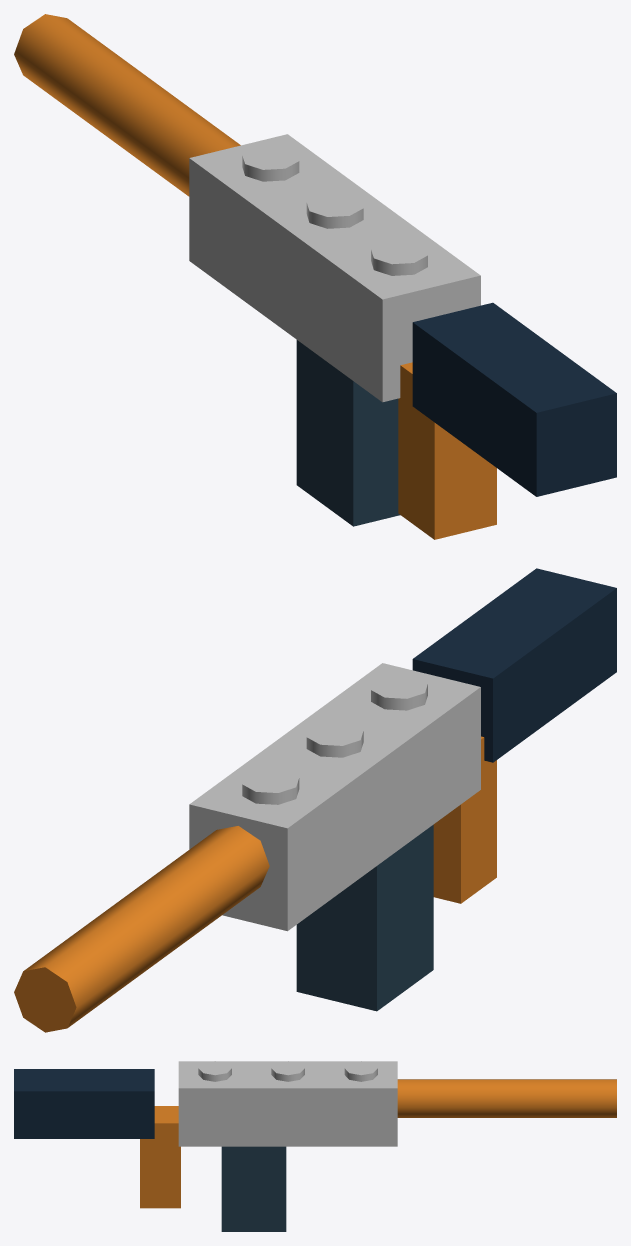
File: LegoAr.glb
3 renders of one model, top to bottom at view 1: azimuth 30°, elevation 25°; view 2: azimuth 150°, elevation 25°; view 3: azimuth 270°, elevation 25°, orthographic. The views are drawn at different scales.
Parts seen in each view (by area): view 1: LegoAr; view 2: LegoAr; view 3: LegoAr.
Boxes of the visible parts, <box> form: LegoAr: <box>14,14,616,539</box>; LegoAr: <box>14,568,616,1032</box>; LegoAr: <box>14,1061,616,1231</box>.
Bounding box in the file's own units: 0.11 × 0.2876 × 1.03.
